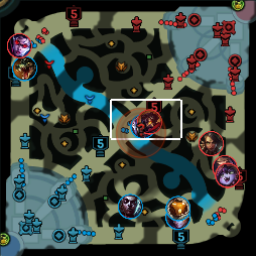bard: (165, 197, 191, 220)
draven: (212, 154, 237, 177)
ekko: (117, 193, 141, 217)
ezreal: (165, 209, 191, 228)
lulu: (215, 163, 239, 187)
nidalee: (198, 130, 224, 154)
renekton: (12, 57, 36, 80)
vayne: (7, 33, 30, 57)
viktor: (137, 110, 161, 133)
